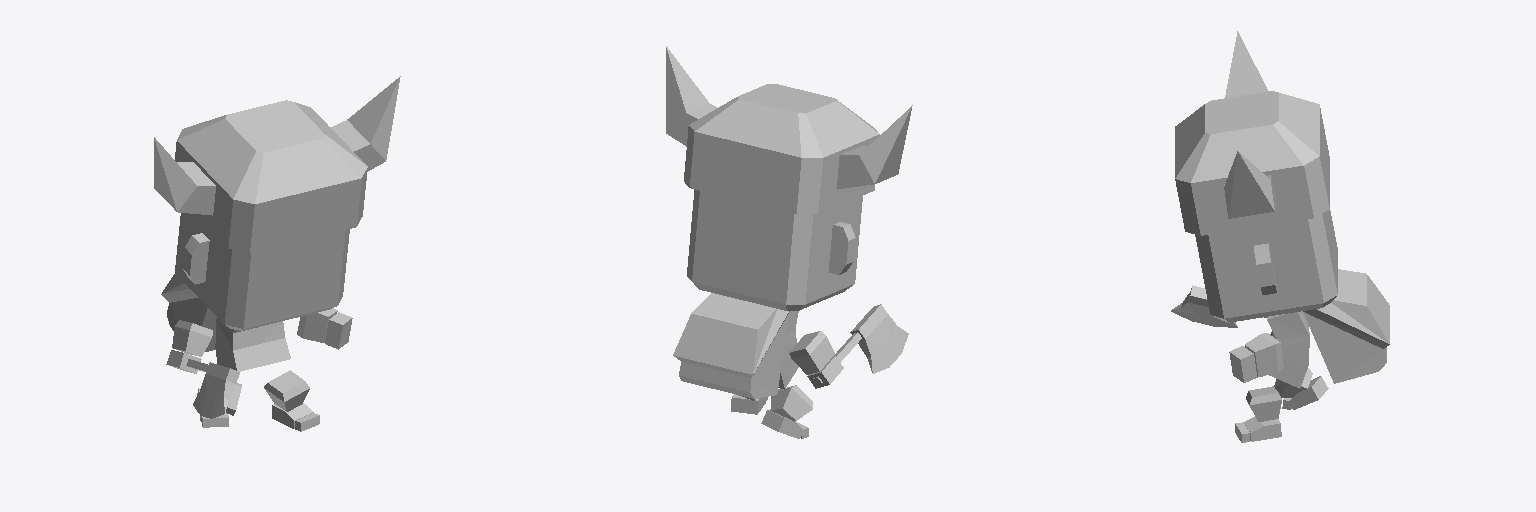
The model's file is mini_knight_000019.obj.
3 renders of one model, left to right at view 1: azimuth 30°, elevation 25°; view 2: azimuth 150°, elevation 25°; view 3: azimuth 270°, elevation 25°, orthographic.
Visible parts, largest first — view 1: cap_Object01_Material__3, Mesh_objheadusOBJexport_Material, axe_Object02_Material__3, back_Object03_Material__3; view 2: cap_Object01_Material__3, Mesh_objheadusOBJexport_Material, back_Object03_Material__3, axe_Object02_Material__3; view 3: cap_Object01_Material__3, Mesh_objheadusOBJexport_Material, back_Object03_Material__3, axe_Object02_Material__3.
Boxes of the visible parts, <box> form: cap_Object01_Material__3: <box>154,76,400,252</box>; Mesh_objheadusOBJexport_Material: <box>166,213,352,431</box>; axe_Object02_Material__3: <box>186,359,239,418</box>; back_Object03_Material__3: <box>161,273,216,351</box>; cap_Object01_Material__3: <box>666,46,912,213</box>; Mesh_objheadusOBJexport_Material: <box>687,189,862,438</box>; back_Object03_Material__3: <box>673,293,789,398</box>; axe_Object02_Material__3: <box>813,304,908,384</box>; cap_Object01_Material__3: <box>1175,31,1329,235</box>; Mesh_objheadusOBJexport_Material: <box>1195,209,1337,442</box>; back_Object03_Material__3: <box>1303,269,1389,383</box>; axe_Object02_Material__3: <box>1171,285,1266,327</box>.
Bounding box in the file's own units: 1.94 × 2.48 × 1.5.